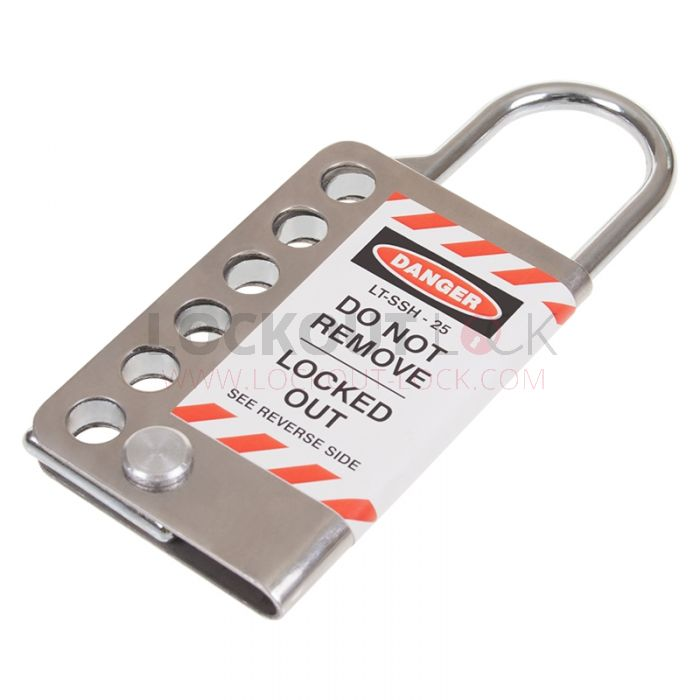hasp: (24, 82, 683, 623)
